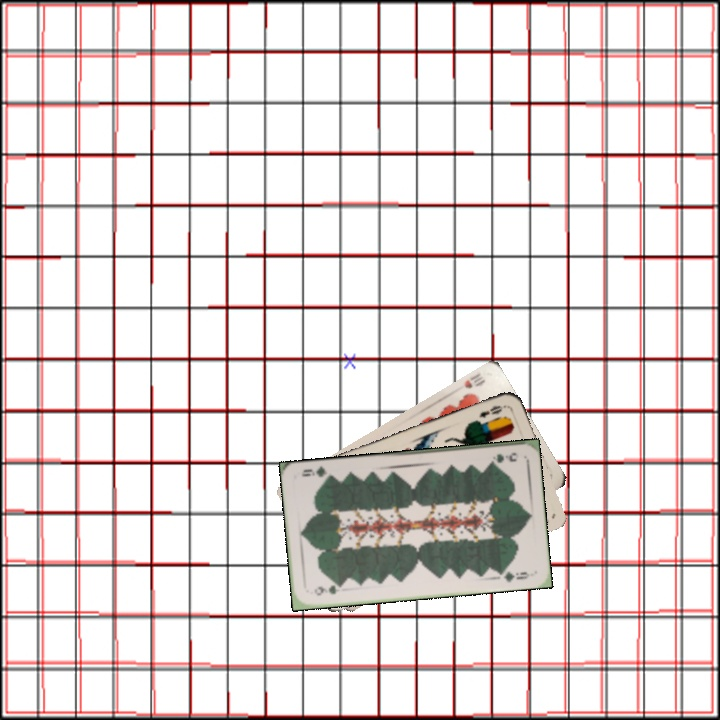EO: (475, 401, 508, 420)
G9: (310, 581, 346, 598), (486, 448, 519, 466)
H10: (460, 369, 488, 391)
